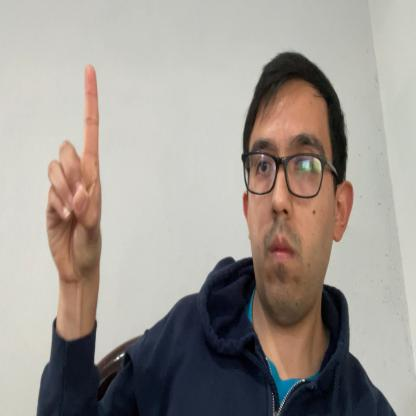D: (46, 63, 102, 279)
